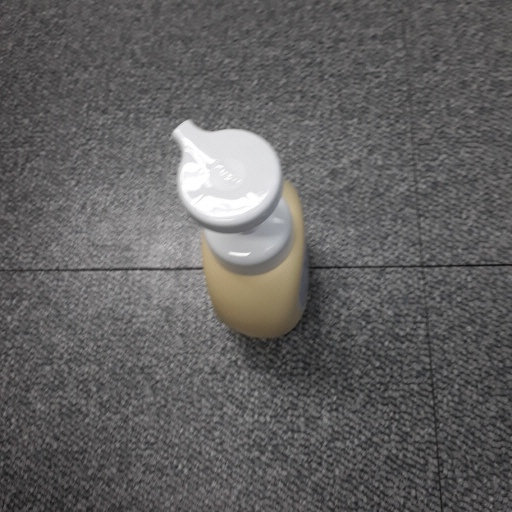Plastic_3: (160, 115, 311, 350)
